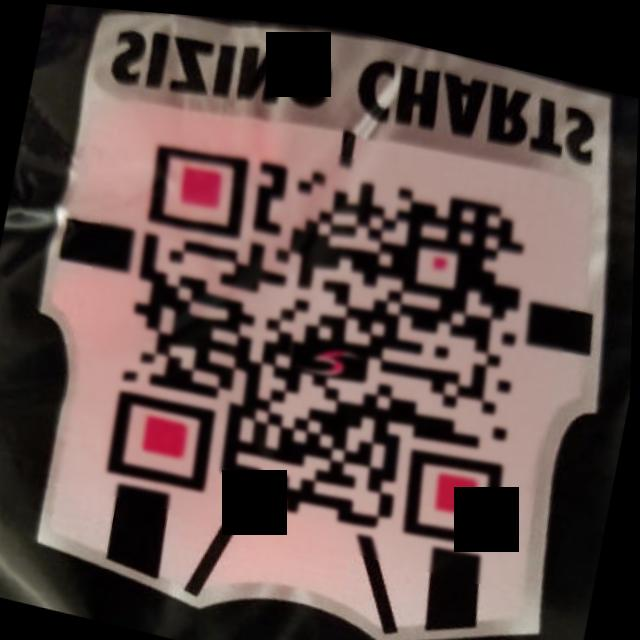QR_CODE: (53, 97, 591, 588)
